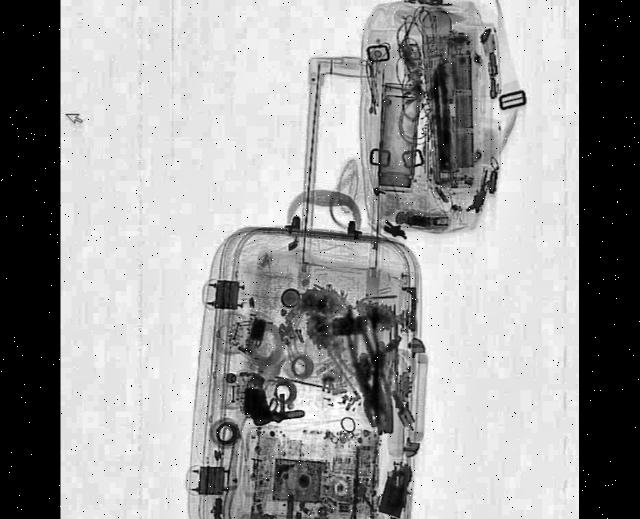Pliers: (340, 298, 390, 427)
